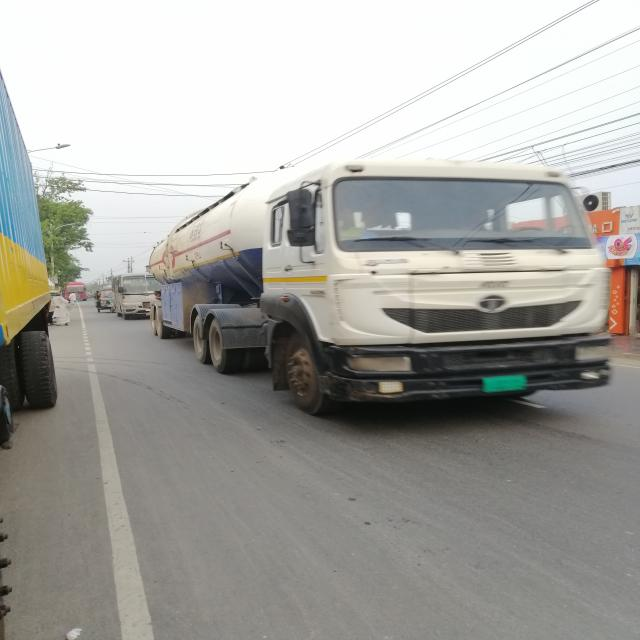Truck: (147, 157, 619, 411)
